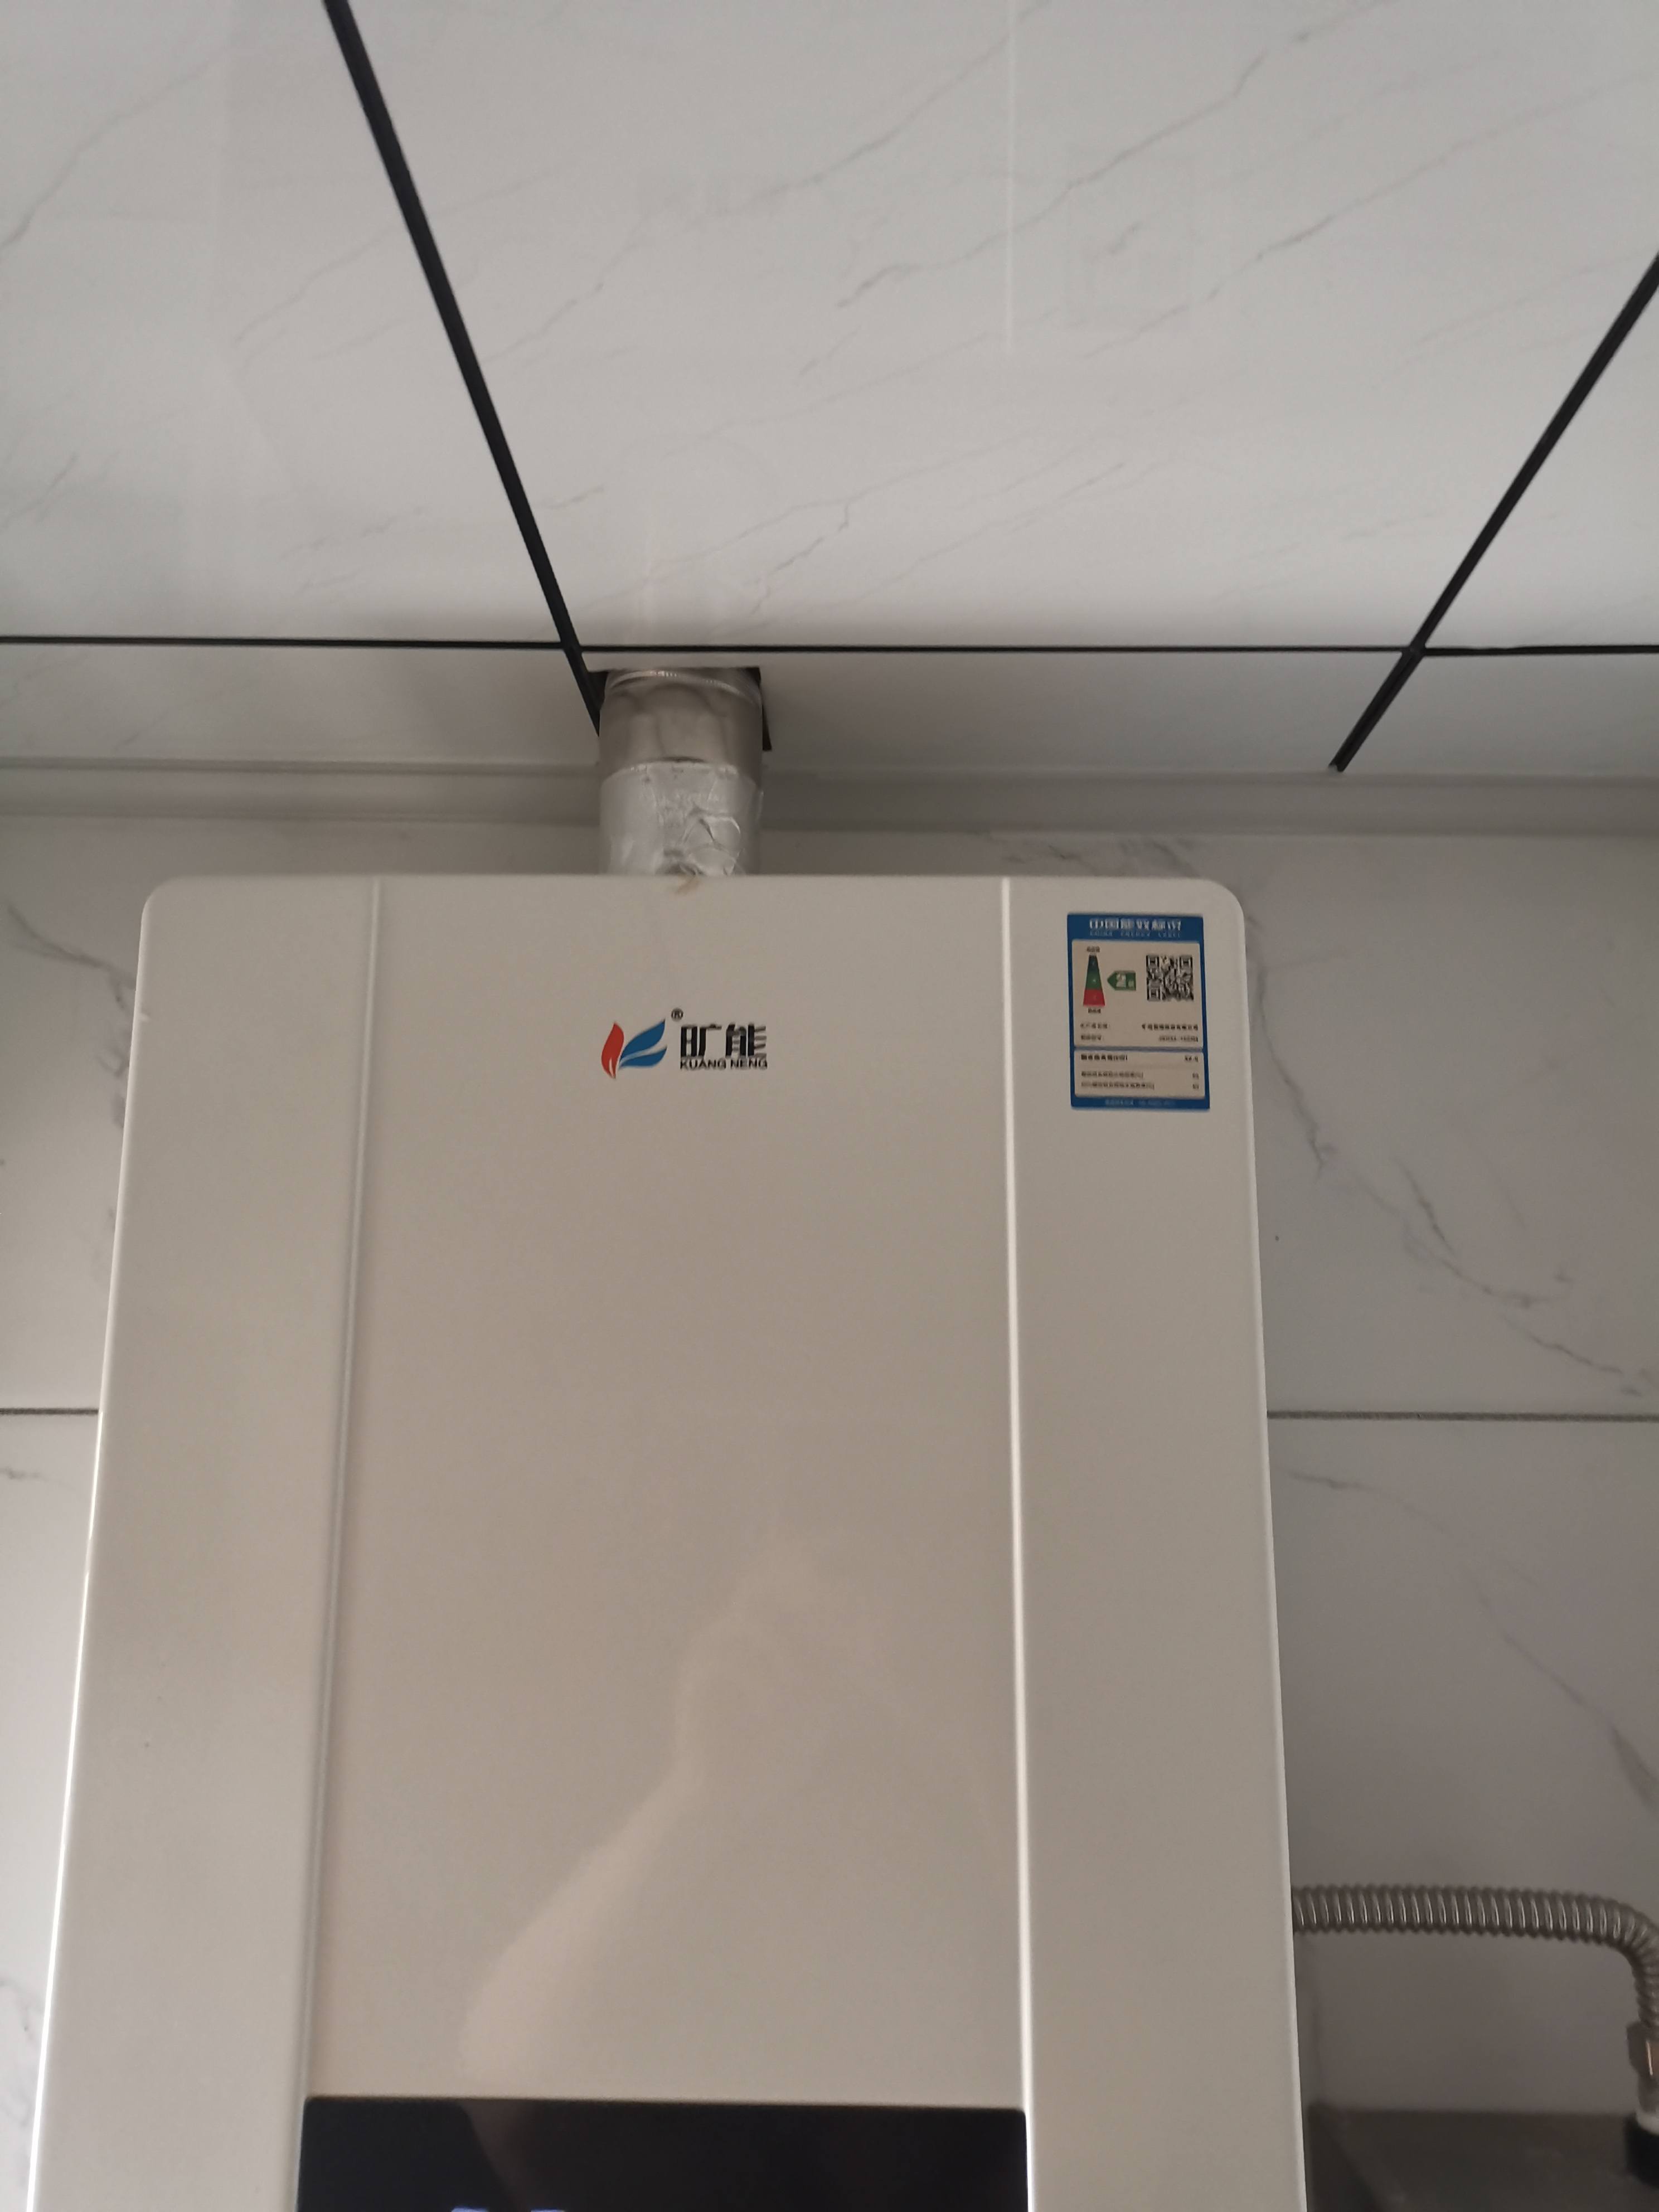loudou: (570, 993, 791, 1085)
